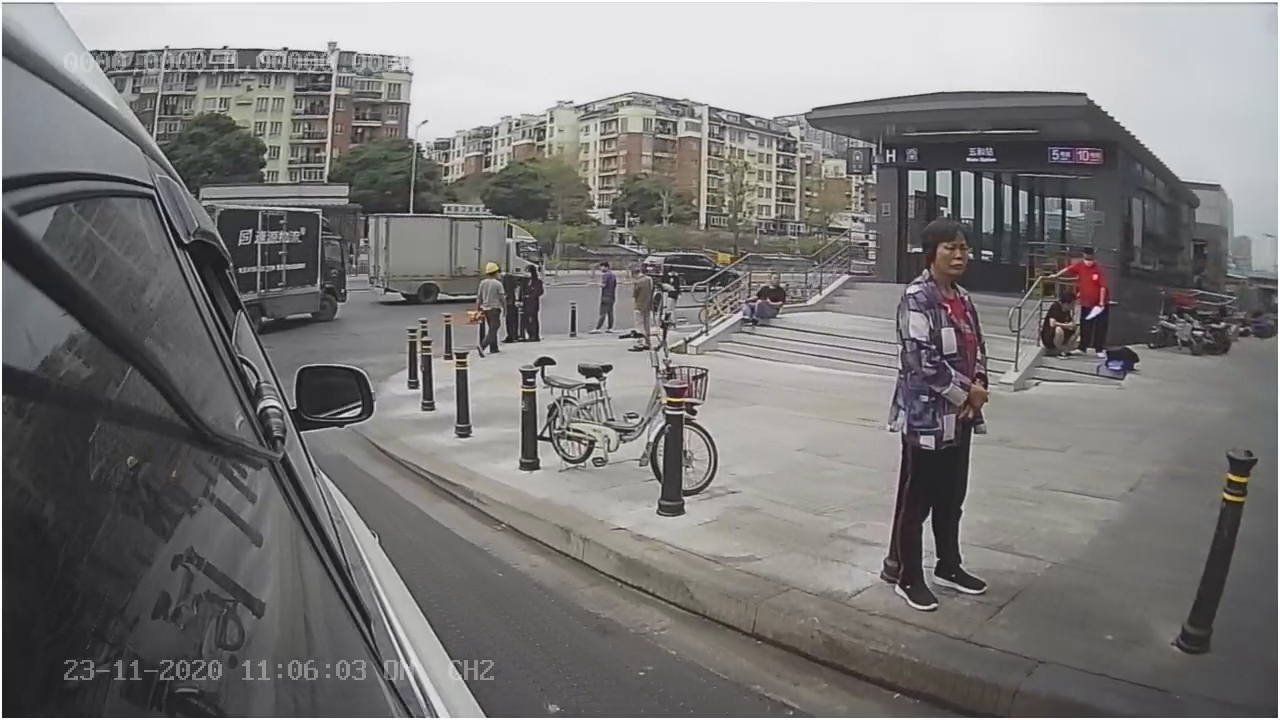person: (871, 213, 1019, 615)
